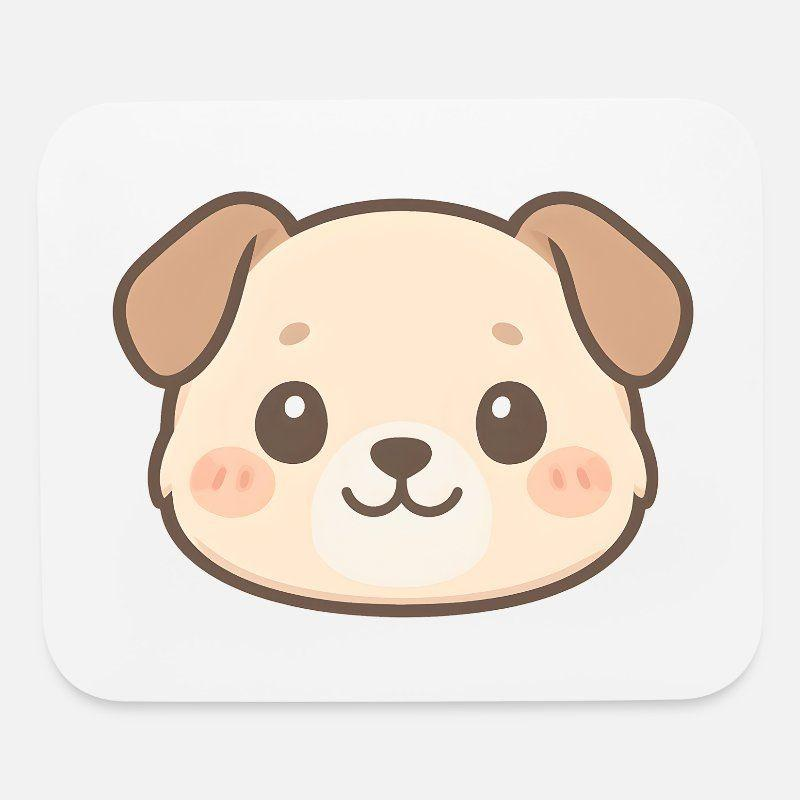non-dog: (111, 189, 695, 618)
